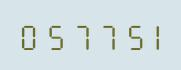five: (41, 20, 64, 50), (114, 20, 137, 50)
one: (138, 20, 161, 50)
seven: (66, 20, 89, 50), (90, 20, 113, 50)
zero: (17, 20, 40, 50)
